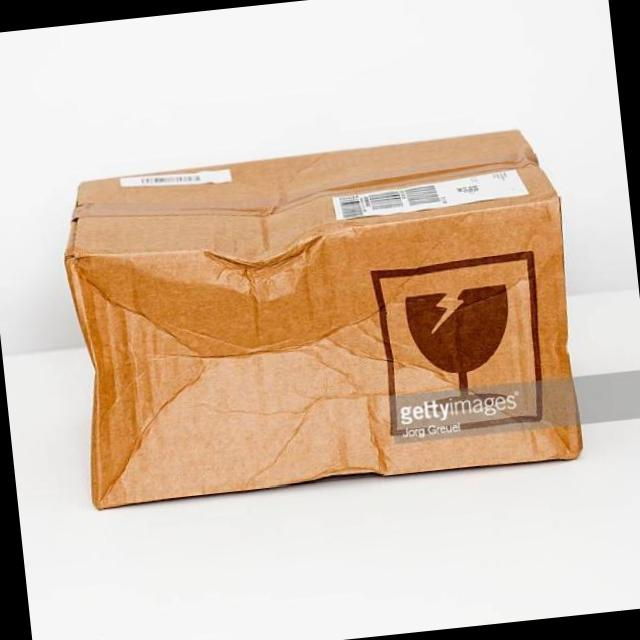box: (161, 127, 467, 535)
